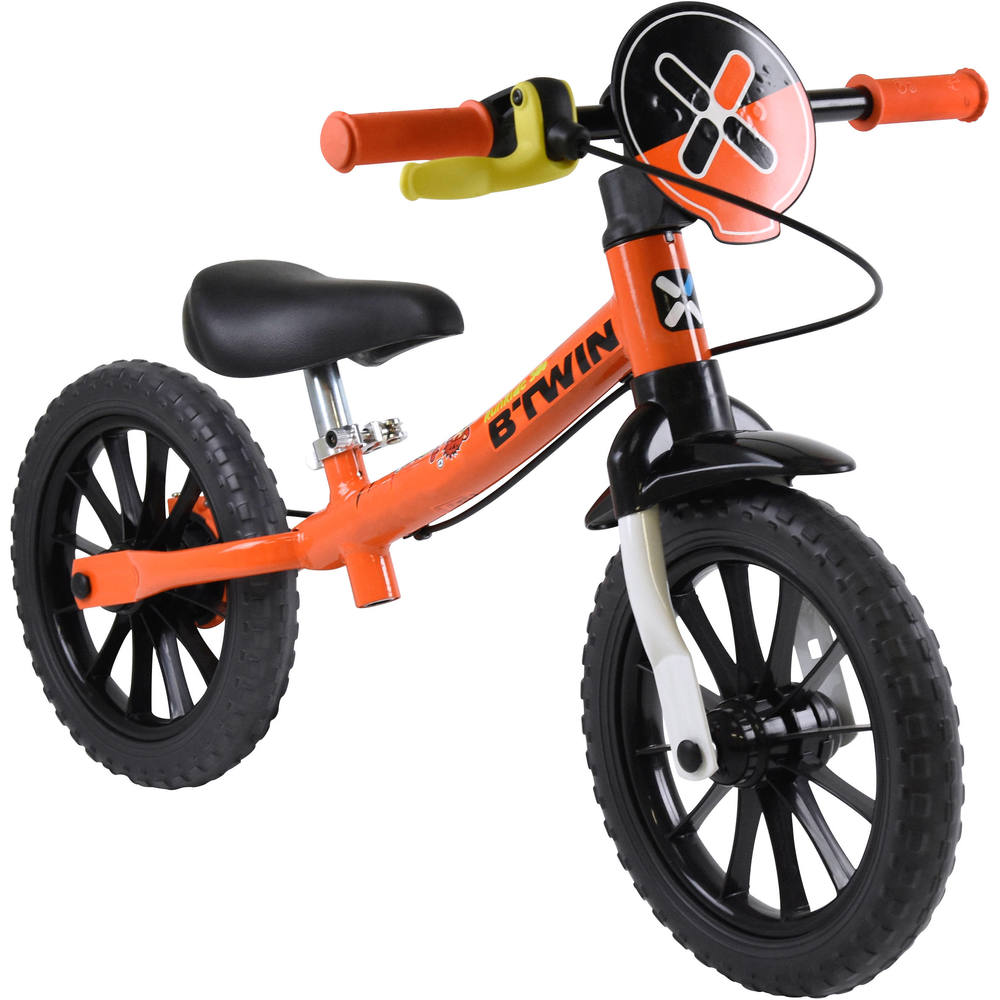Kids_bicycle: (8, 8, 985, 990)
